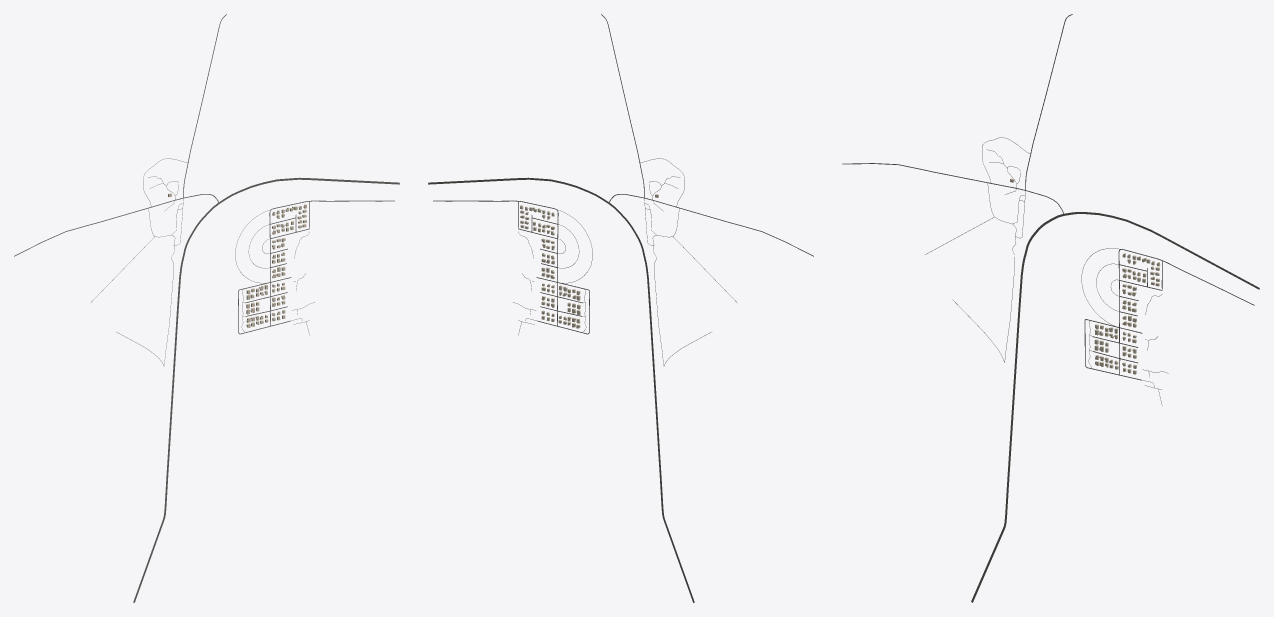
File: historic-palestine-04_21_3455_3150.glb
3 views of the same model, side by side, from view 1: azimuth 30°, elevation 25°; view 2: azimuth 150°, elevation 25°; view 3: azimuth 330°, elevation 25° (orthographic). The views are drawn at different scales.
Parts seen in each view (by area): view 1: Road 232; view 2: Road 232; view 3: Road 232.
Boxes of the visible parts, <box> form: Road 232: <box>133,203,218,602</box>; Road 232: <box>609,203,694,602</box>; Road 232: <box>971,214,1064,602</box>.
Size of the model in its own units: 1701 by 2386 by 8.7.
